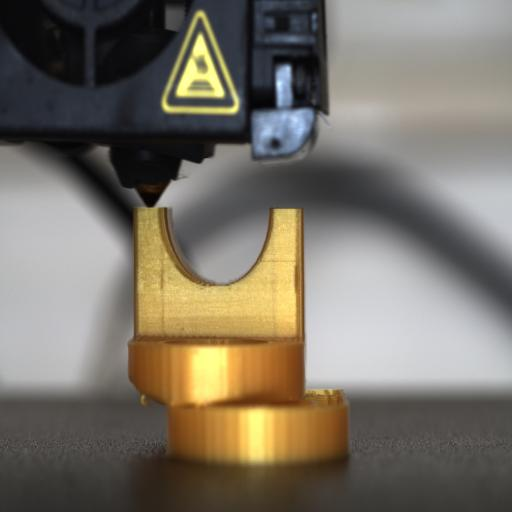layer_shift: (130, 380, 354, 413)
